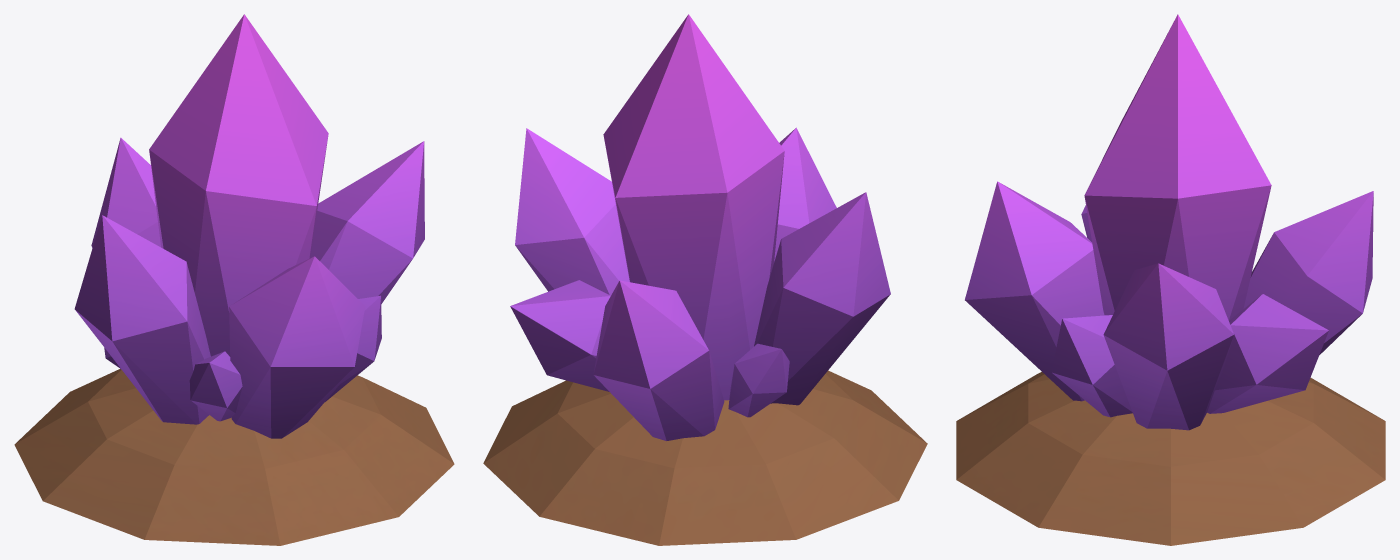
Rendered from Crystal_purple_01.fbx.
3 renders of one model, left to right at view 1: azimuth 30°, elevation 25°; view 2: azimuth 150°, elevation 25°; view 3: azimuth 270°, elevation 25°, orthographic.
Parts seen in each view (by area): view 1: Crystal_purple_01; view 2: Crystal_purple_01; view 3: Crystal_purple_01.
Boxes of the visible parts, x1,y1,x2,y2 form: Crystal_purple_01: (14,14,454,545); Crystal_purple_01: (483,14,927,545); Crystal_purple_01: (956,14,1385,545).
Bounding box in the file's own units: 130 × 141 × 124.
